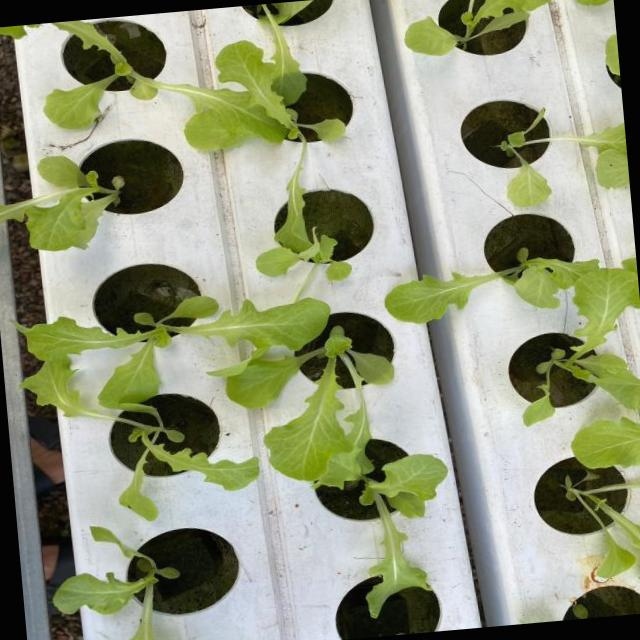Lettuce-Not-Ready-to-Harvest: (185, 4, 344, 252), (23, 355, 258, 520), (20, 295, 329, 406), (221, 326, 391, 487), (43, 20, 256, 129), (524, 258, 640, 424), (387, 250, 599, 322), (54, 526, 180, 640), (361, 455, 447, 616), (499, 109, 629, 206), (0, 157, 123, 251), (405, 0, 550, 55), (566, 478, 640, 578), (256, 231, 350, 280)
